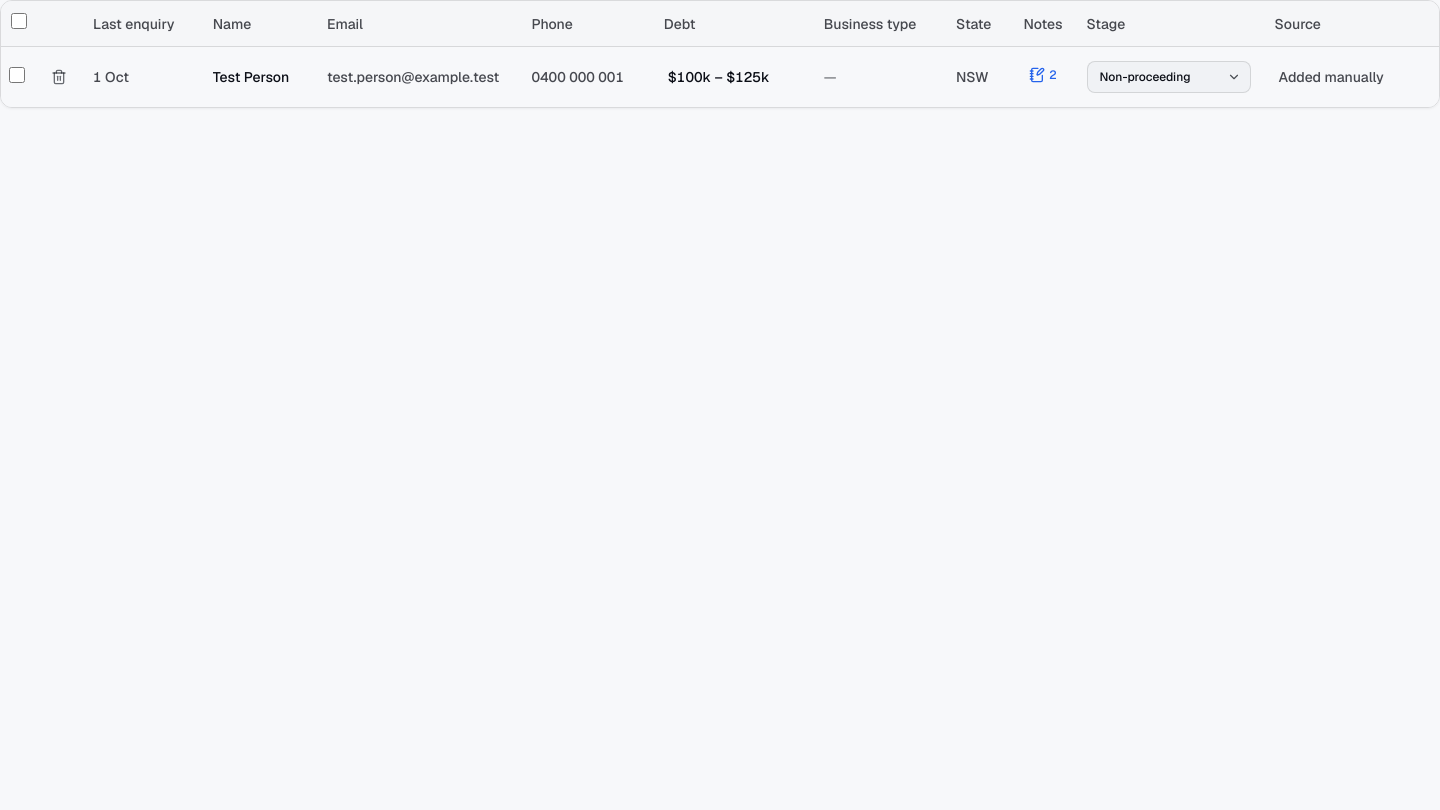
copying a note › has a copy button on each note in the tooltip
Hover over the element showing "2" at (1043, 74), box [1029,66,1057,82]
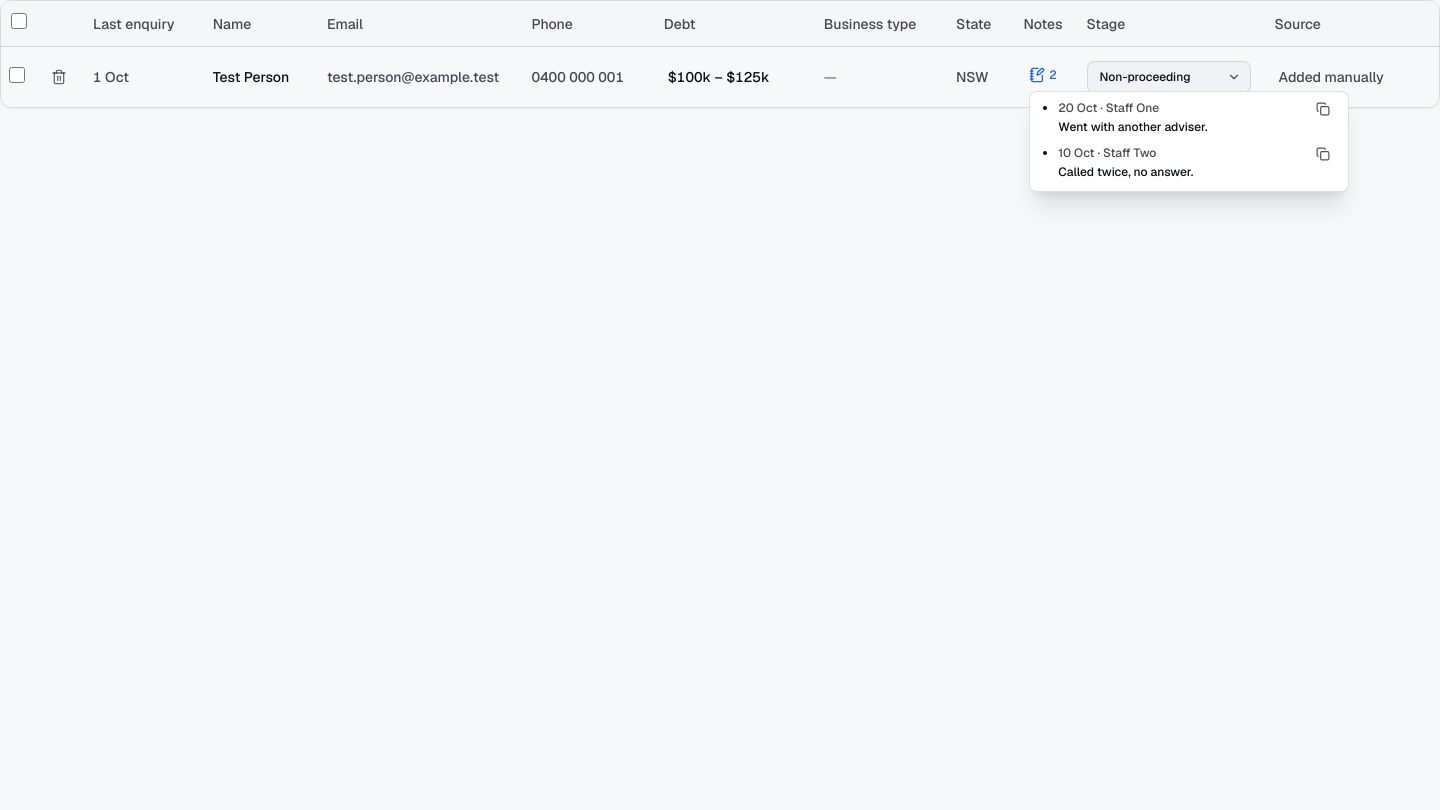
Check: the number of buttons named "Copy note" is 2
Click the button named "Copy note" next to "10 Oct · Staff Two" at (1323, 154), box [1310,141,1336,167]
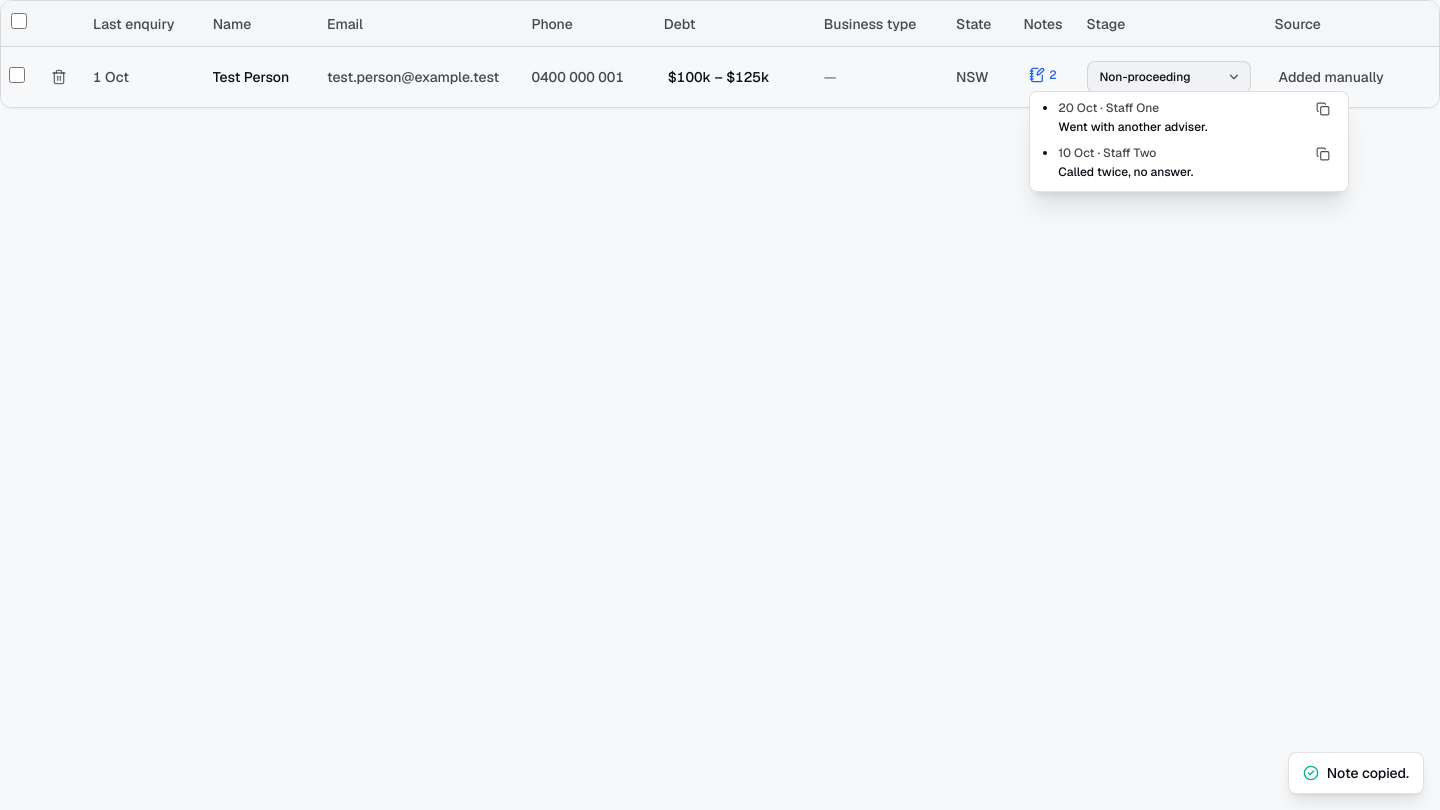
Check: the text "Note copied." is shown, box [1327,763,1409,783]
